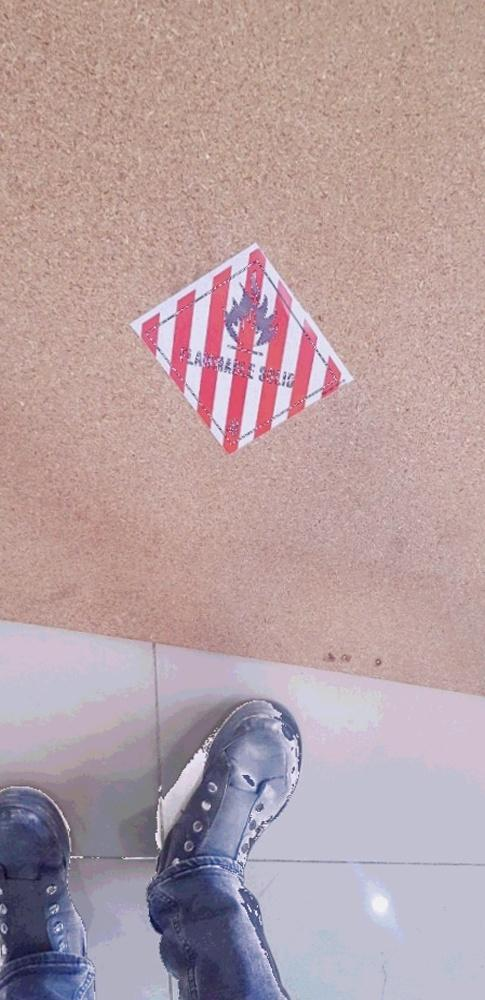flammable-solid: (127, 230, 351, 459)
